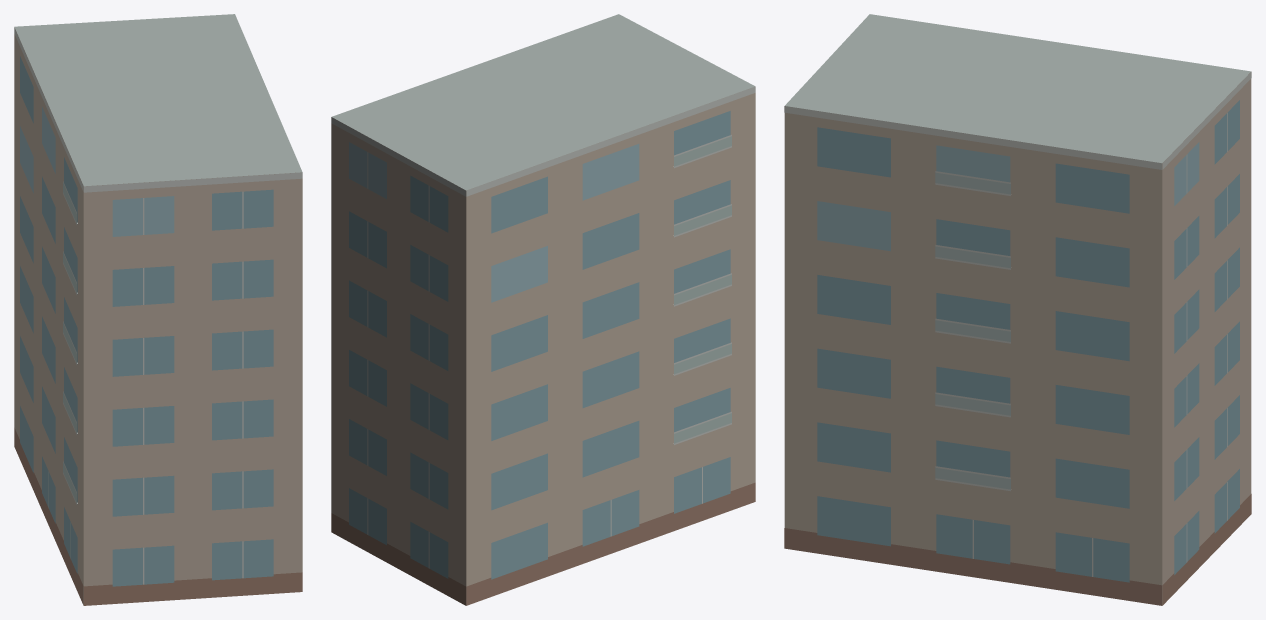
The model's file is survey-upis-33037320.glb.
3 views of the same model, side by side, from view 1: azimuth 30°, elevation 25°; view 2: azimuth 150°, elevation 25°; view 3: azimuth 270°, elevation 25° (orthographic). The views are drawn at different scales.
Parts seen in each view (by area): view 1: survey-upis-33037320.tmp; view 2: survey-upis-33037320.tmp; view 3: survey-upis-33037320.tmp.
Boxes of the visible parts, x1,y1,x2,y2 form: survey-upis-33037320.tmp: [14, 14, 302, 605]; survey-upis-33037320.tmp: [331, 14, 755, 605]; survey-upis-33037320.tmp: [784, 14, 1251, 605].
Bounding box in the file's own units: 11.58 × 16 × 15.31.
